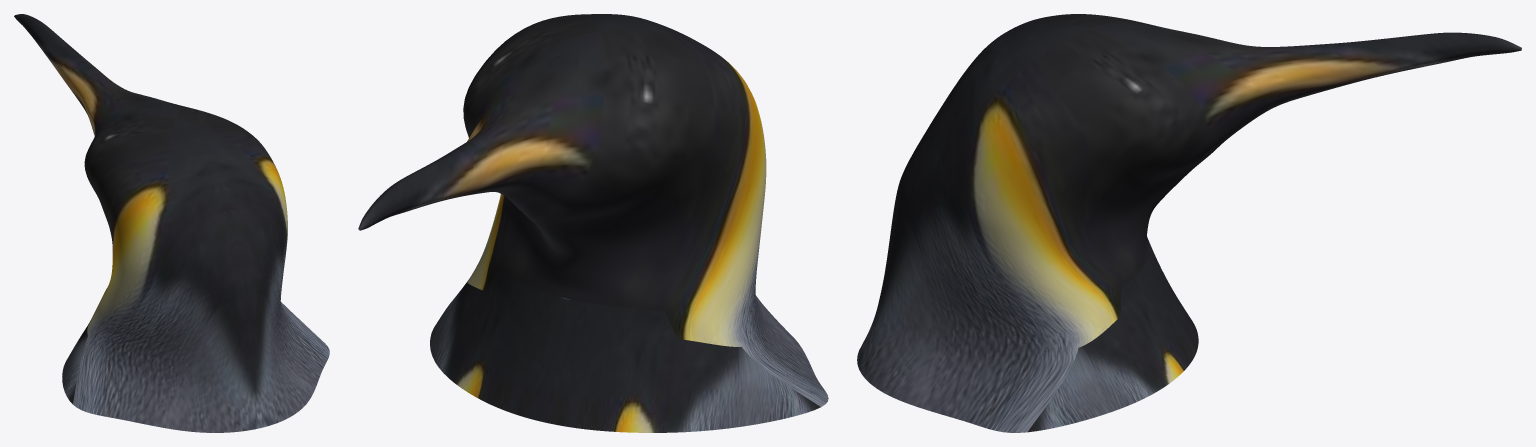
File: PenguinHead.obj
3 views of the same model, side by side, from view 1: azimuth 30°, elevation 25°; view 2: azimuth 150°, elevation 25°; view 3: azimuth 270°, elevation 25° (orthographic). The views are drawn at different scales.
Visible parts, largest first — view 1: Cube.001; view 2: Cube.001; view 3: Cube.001.
Part boxes in pixels (x1=…): Cube.001: x1=14, y1=14, x2=329, y2=432; Cube.001: x1=358, y1=14, x2=828, y2=432; Cube.001: x1=857, y1=14, x2=1521, y2=432.
Size of the model in its own units: 1.09 by 1.02 by 1.86.
